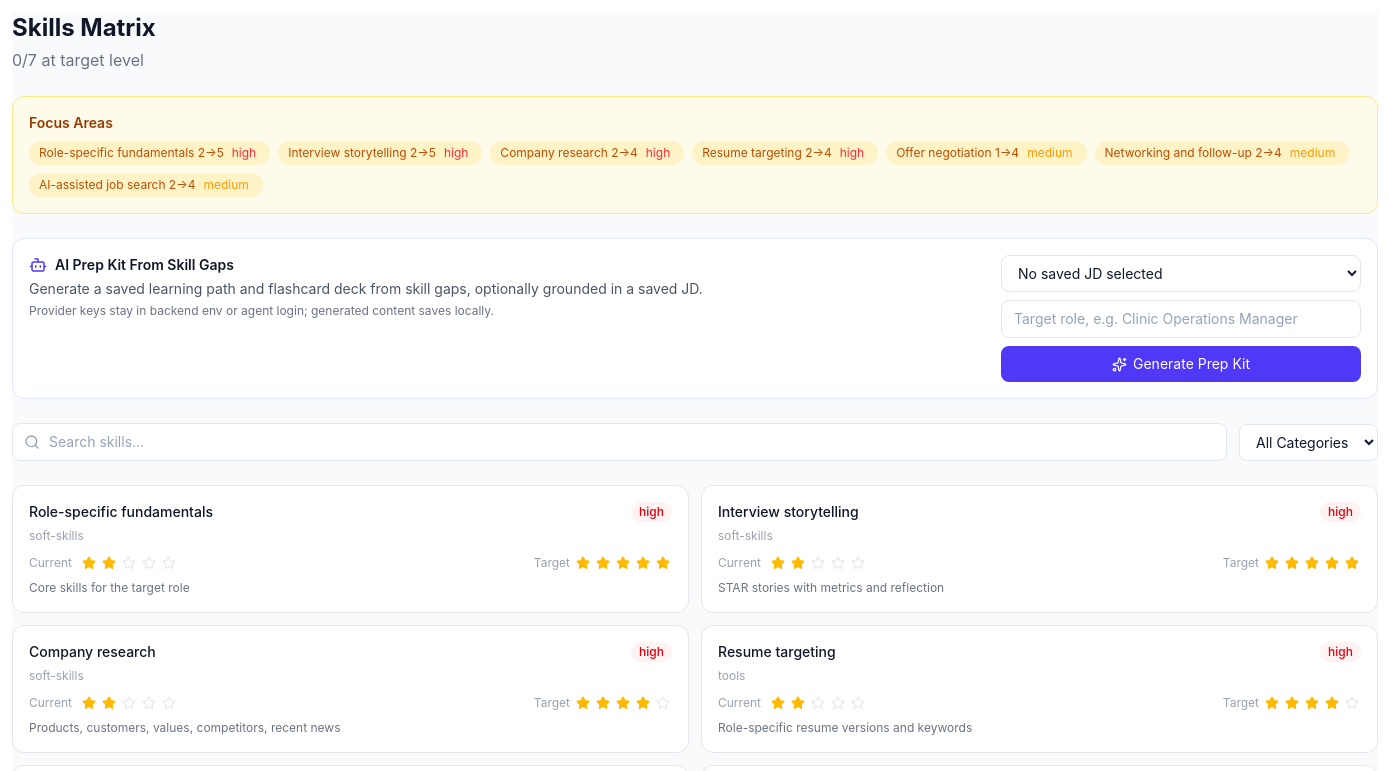
it: Skills AI prep kit › does not save invalid AI output
Click the button "Generate Prep Kit": (1181, 364) [1001,346,1361,382]
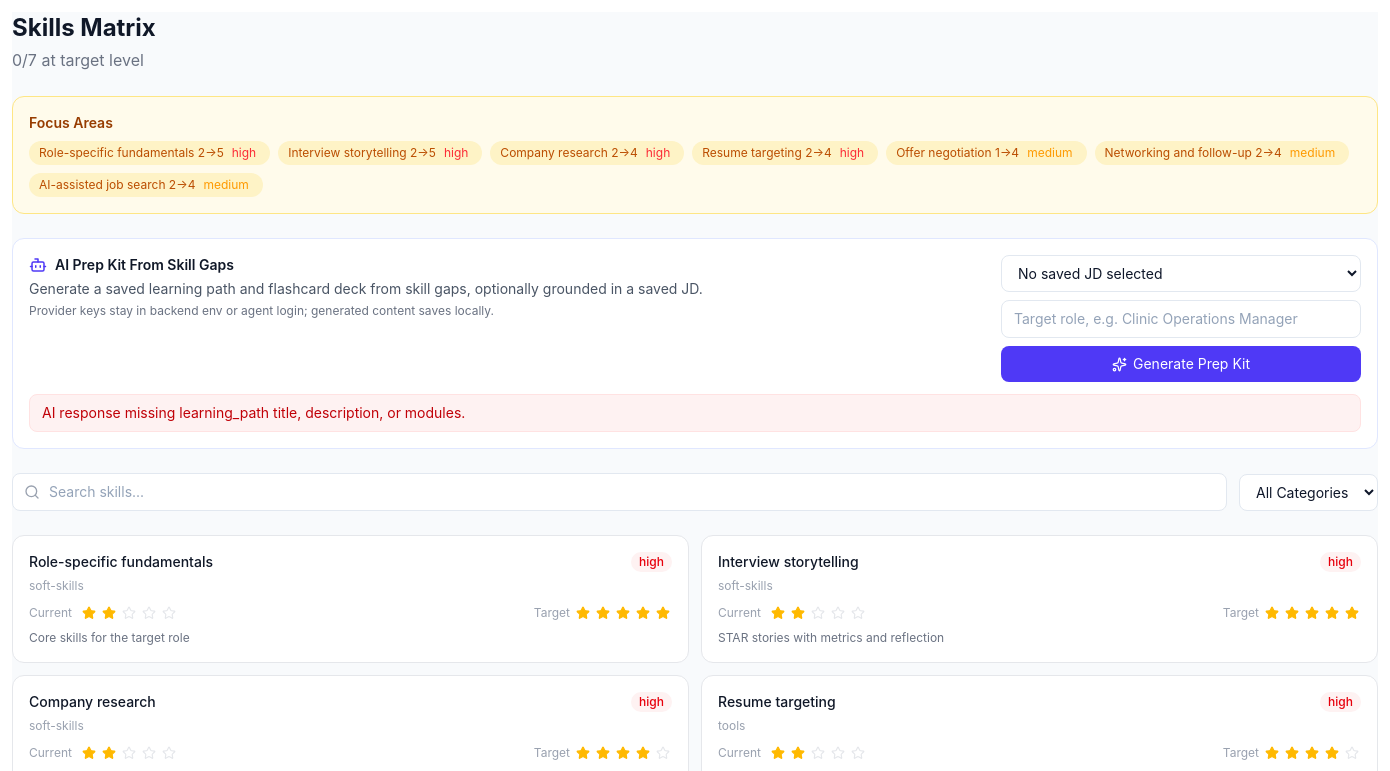
expect the text "missing learning_path" is shown: met, box [42,404,465,421]
